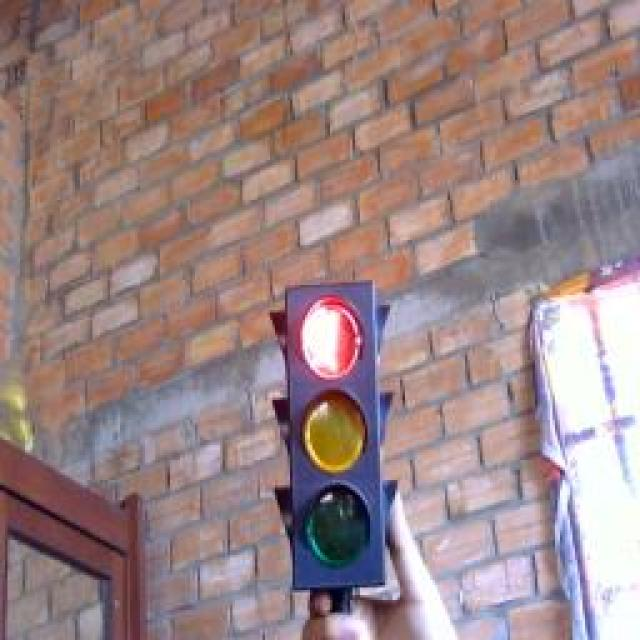-: (294, 290, 369, 387)
